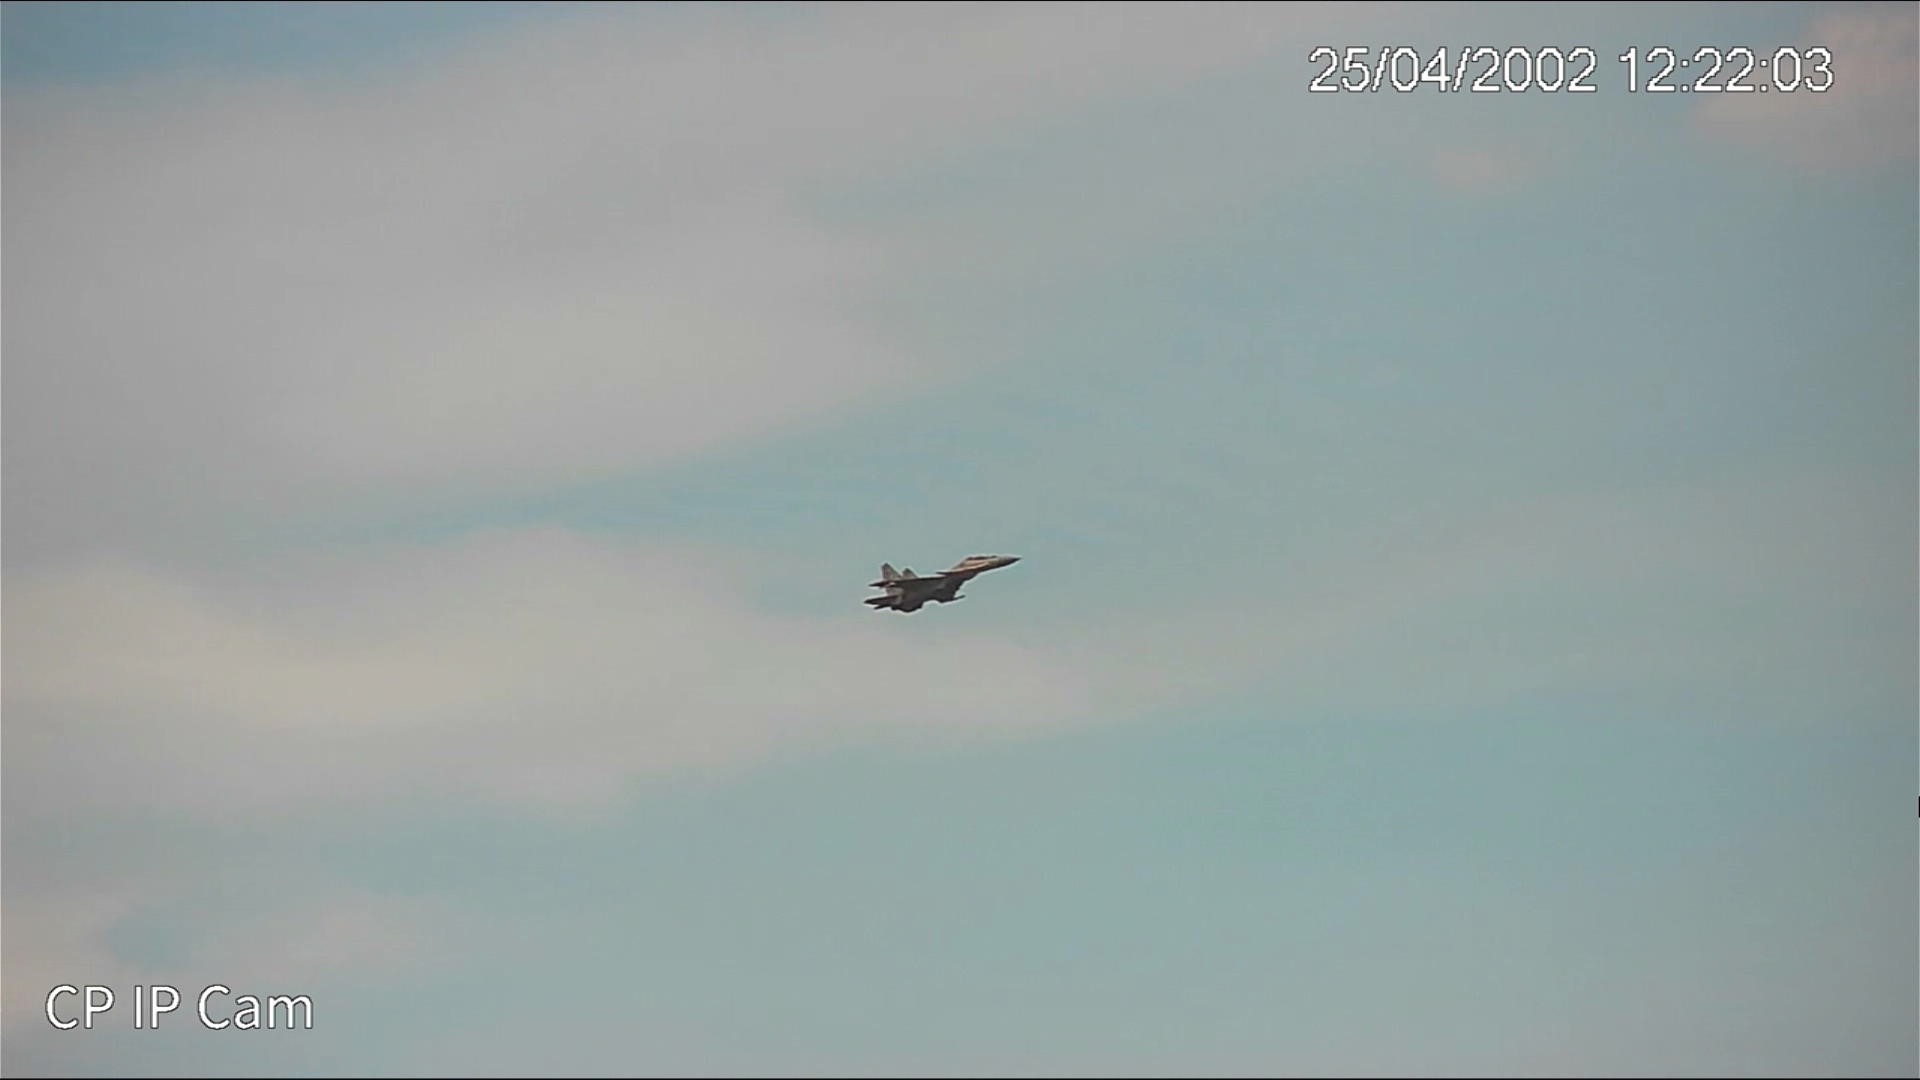SU_30: (868, 554, 1029, 611)
